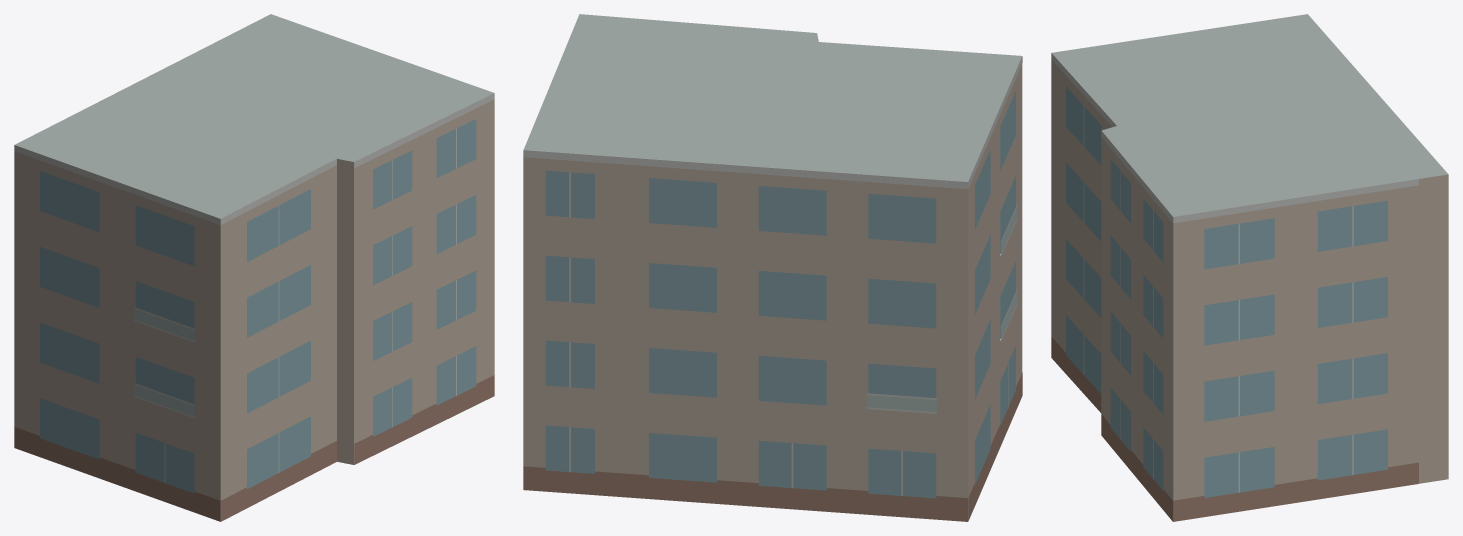
The model's file is survey-upis-32853018.glb.
3 views of the same model, side by side, from view 1: azimuth 30°, elevation 25°; view 2: azimuth 150°, elevation 25°; view 3: azimuth 270°, elevation 25° (orthographic). The views are drawn at different scales.
Parts seen in each view (by area): view 1: survey-upis-32853018.tmp; view 2: survey-upis-32853018.tmp; view 3: survey-upis-32853018.tmp.
Boxes of the visible parts, x1,y1,x2,y2 form: survey-upis-32853018.tmp: [14, 14, 494, 521]; survey-upis-32853018.tmp: [523, 14, 1022, 521]; survey-upis-32853018.tmp: [1051, 14, 1448, 521].
Size of the model in its own units: 16.72 by 11.7 by 13.83.
